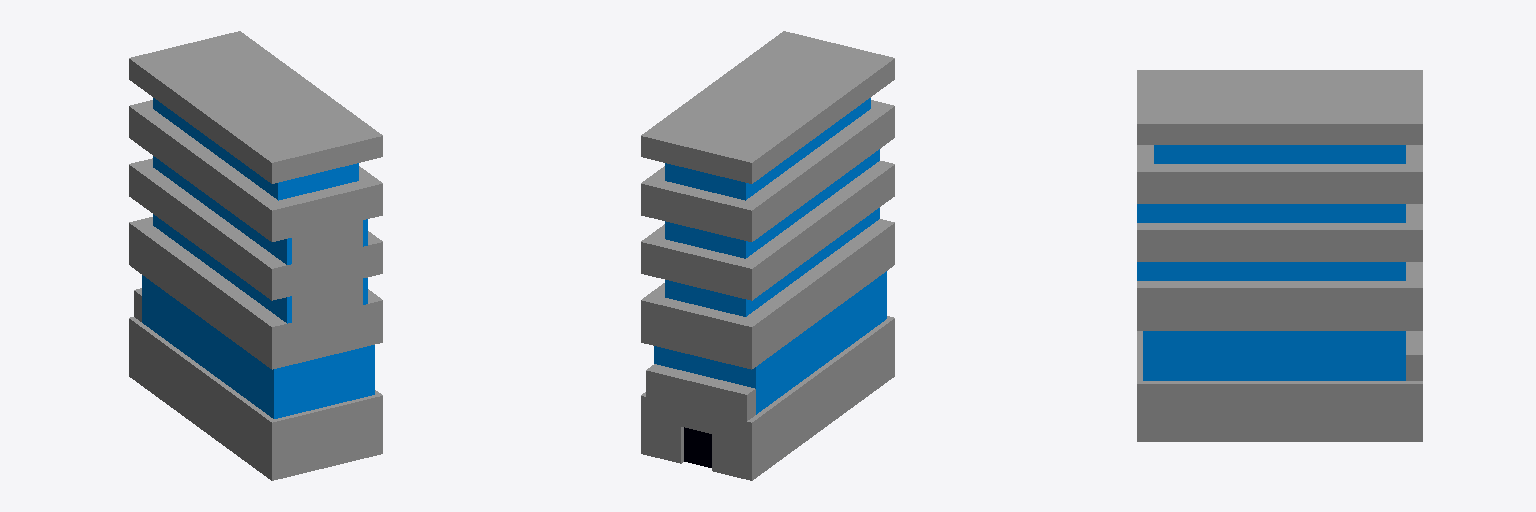
3 views of the same model, side by side, from view 1: azimuth 30°, elevation 25°; view 2: azimuth 150°, elevation 25°; view 3: azimuth 270°, elevation 25° (orthographic).
Size of the model in its own units: 22 by 60 by 49.
Materials: 1 (1 with a texture image).